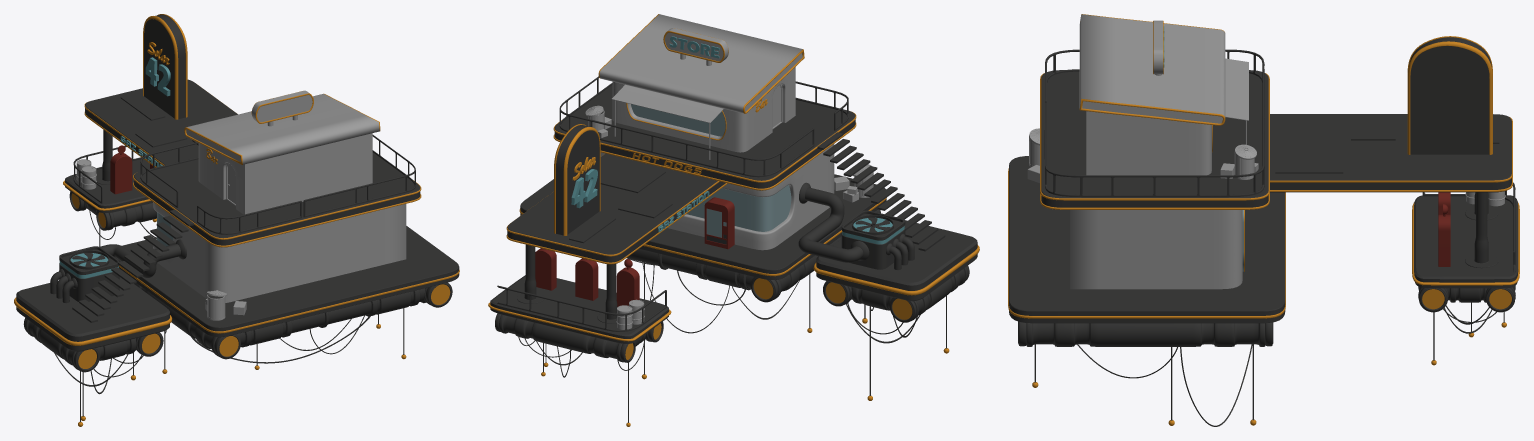
The model's file is GazStation.fbx.
The picture shows the model from 3 angles, left to right: view 1: azimuth 30°, elevation 25°; view 2: azimuth 150°, elevation 25°; view 3: azimuth 270°, elevation 25°; orthographic projection. The views are drawn at different scales.
Parts seen in each view (by area): view 1: Box455, Box449, Box458, Box456, Gaz Station001, Box453, Box457, Box460, Box462, Cylinder453, Box486, Box461 (+14 smaller); view 2: Box453, Box458, Gaz Station001, Box460, Box455, Box456, Box449, Box457, Box461, Box462, Cylinder461, Line012 (+20 smaller); view 3: Box449, Box455, Box458, Box453, Box460, Gaz Station001, Box462, Box456, Box461, Cylinder458, Box468, Box493 (+6 smaller).
Part boxes in pixels (bbox=[...]): Box455: bbox=[153, 202, 406, 302]; Box449: bbox=[114, 226, 459, 337]; Box458: bbox=[134, 152, 420, 247]; Box456: bbox=[198, 133, 372, 214]; Gaz Station001: bbox=[71, 14, 450, 368]; Box453: bbox=[186, 94, 379, 164]; Box457: bbox=[16, 277, 169, 351]; Box460: bbox=[85, 79, 237, 166]; Box462: bbox=[144, 14, 185, 119]; Cylinder453: bbox=[237, 288, 427, 347]; Box486: bbox=[59, 246, 119, 301]; Box461: bbox=[65, 159, 152, 212]; Box453: bbox=[599, 14, 802, 113]; Box458: bbox=[554, 85, 855, 190]; Gaz Station001: bbox=[497, 14, 912, 359]; Box460: bbox=[507, 153, 725, 264]; Box455: bbox=[600, 144, 834, 250]; Box456: bbox=[612, 67, 795, 152]; Box449: bbox=[520, 174, 886, 279]; Box457: bbox=[816, 220, 977, 301]; Box461: bbox=[490, 275, 668, 343]; Box462: bbox=[556, 125, 599, 235]; Cylinder461: bbox=[495, 313, 635, 362]; Line012: bbox=[798, 187, 863, 262]; Box449: bbox=[1009, 156, 1285, 323]; Box455: bbox=[1070, 210, 1242, 289]; Box458: bbox=[1041, 70, 1268, 209]; Box453: bbox=[1079, 14, 1225, 123]; Box460: bbox=[1270, 114, 1511, 192]; Gaz Station001: bbox=[1040, 14, 1515, 309]; Box462: bbox=[1409, 37, 1491, 154]; Box456: bbox=[1086, 111, 1212, 175]; Box461: bbox=[1414, 195, 1518, 288]; Cylinder458: bbox=[1018, 321, 1273, 346]; Box468: bbox=[1275, 140, 1343, 173]; Box493: bbox=[1225, 58, 1248, 120].
Size of the model in its own units: 3957 by 3117 by 3779.
